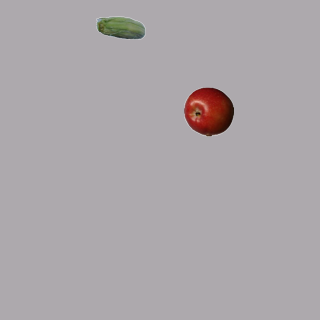Apple Braeburn: (183, 86, 233, 136)
Corn Husk: (95, 4, 145, 54)
